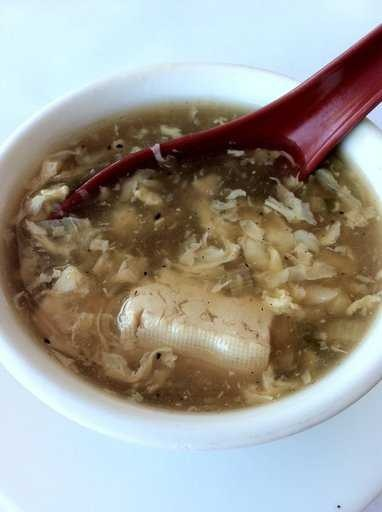soup: (13, 84, 370, 412)
